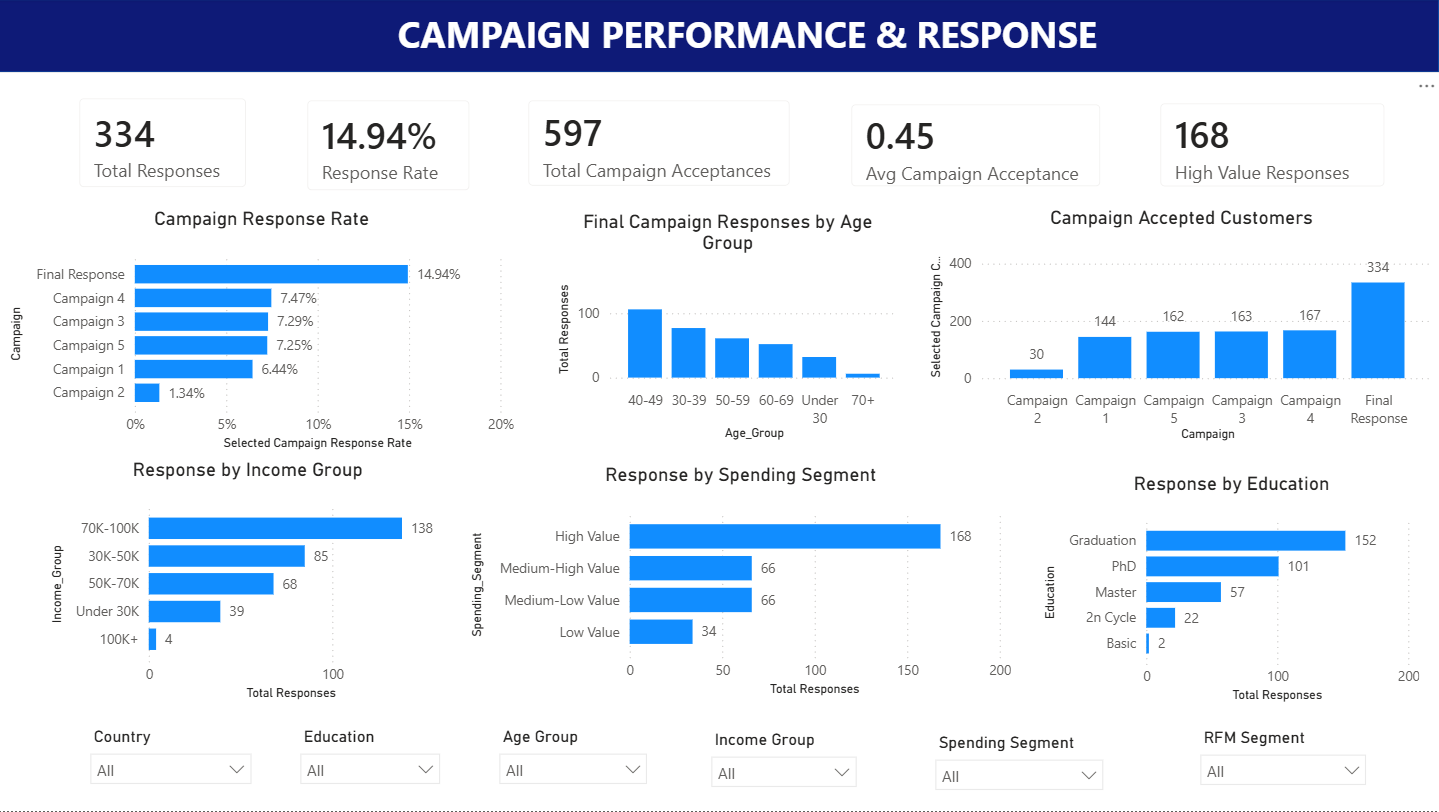

This screenshot's page, from the dashboard's own definition file:
{"tool":"powerbi","page":{"name":"  CAMPAIGN PERFORMANCE & RESPONSE","canvas":[1280,720],"ordinal":2},"visuals":[{"type":"cardVisual","fields":{"Data":["_Measures.Total Responses"]},"box":[56.7,70.9,182.3,113.4],"z":0},{"type":"cardVisual","fields":{"Data":["_Measures.Total Campaign Acceptances"]},"box":[454.7,72.9,266.3,110.2],"z":1000},{"type":"cardVisual","fields":{"Data":["_Measures.Average Campaign Acceptance"]},"box":[741.3,75.9,255.2,107.3],"z":2000},{"type":"cardVisual","fields":{"Data":["_Measures.Response Rate"]},"box":[259.2,72.9,178.2,114.4],"z":3000},{"type":"clusteredColumnChart","title":"Campaign Accepted Customers","fields":{"Category":["Campaigns.Campaign"],"Y":["_Measures.Selected Campaign Customers"]},"box":[823.3,183.3,456.7,212.7],"z":4000},{"type":"slicer","fields":{"Values":["marketing_customer_enriched.RFM_Segment"]},"box":[1057.4,642.1,167.2,66],"z":5000},{"type":"slicer","fields":{"Values":["marketing_customer_enriched.Country"]},"box":[73.8,640.9,162.6,60.7],"z":6000},{"type":"slicer","fields":{"Values":["marketing_customer_enriched.Education"]},"box":[259.7,640.9,143.9,69.1],"z":7000},{"type":"slicer","fields":{"Values":["marketing_customer_enriched.Income_Group"]},"box":[624.1,643.7,148.6,66.3],"z":8000},{"type":"slicer","fields":{"Values":["marketing_customer_enriched.Age_Group"]},"box":[436.3,640.9,151.4,71.9],"z":9000},{"type":"slicer","fields":{"Values":["marketing_customer_enriched.Spending_Segment"]},"box":[823.1,646.5,169.1,57],"z":10000},{"type":"clusteredBarChart","title":"Campaign Response Rate","fields":{"Category":["Campaigns.Campaign"],"Y":["_Measures.Selected Campaign Response Rate"]},"box":[6.8,184.8,457.1,219.8],"z":11000},{"type":"clusteredBarChart","title":"Response by Spending Segment","fields":{"Category":["marketing_customer_enriched.Spending_Segment"],"Y":["_Measures.Total Responses"]},"box":[416.2,411.1,489.1,210.6],"z":11001},{"type":"columnChart","title":"Final Campaign Responses by Age Group","fields":{"Category":["marketing_customer_enriched.Age_Group"],"Y":["_Measures.Total Responses"]},"box":[493.2,187.3,311.9,208.6],"z":11002},{"type":"barChart","title":"Response by Income Group","fields":{"Category":["marketing_customer_enriched.Income_Group"],"Y":["_Measures.Total Responses"]},"box":[43.5,407.1,359.5,218.7],"z":11003},{"type":"barChart","title":"Response by Education","fields":{"Category":["marketing_customer_enriched.Education"],"Y":["_Measures.Total Responses"]},"box":[923.5,419.2,343.3,208.6],"z":11004},{"type":"shape","box":[0,0,1280,65.4],"z":11005},{"type":"textbox","box":[236.4,3.7,850.3,56.6],"z":11006},{"type":"cardVisual","fields":{"Data":["_Measures.High Value Responses"]},"box":[1015.7,74.9,233.9,108.4],"z":11007}]}

Visuals, with their boxes in screenshot pixels (x1, y1, x2, y2), scaled from the page's 1280x720 canvas onto the 1439x812 screenshot:
cardVisual - _Measures.Total Responses: crop(64, 80, 269, 208)
cardVisual - _Measures.Total Campaign Acceptances: crop(511, 82, 811, 206)
cardVisual - _Measures.Average Campaign Acceptance: crop(833, 86, 1120, 207)
cardVisual - _Measures.Response Rate: crop(291, 82, 492, 211)
"Campaign Accepted Customers" clusteredColumnChart: crop(926, 207, 1438, 447)
slicer - marketing_customer_enriched.RFM_Segment: crop(1189, 724, 1377, 799)
slicer - marketing_customer_enriched.Country: crop(83, 723, 266, 791)
slicer - marketing_customer_enriched.Education: crop(292, 723, 454, 801)
slicer - marketing_customer_enriched.Income_Group: crop(702, 726, 869, 801)
slicer - marketing_customer_enriched.Age_Group: crop(490, 723, 661, 804)
slicer - marketing_customer_enriched.Spending_Segment: crop(925, 729, 1115, 793)
"Campaign Response Rate" clusteredBarChart: crop(8, 208, 522, 456)
"Response by Spending Segment" clusteredBarChart: crop(468, 464, 1018, 701)
"Final Campaign Responses by Age Group" columnChart: crop(554, 211, 905, 446)
"Response by Income Group" barChart: crop(49, 459, 453, 706)
"Response by Education" barChart: crop(1038, 473, 1424, 708)
shape: crop(0, 0, 1438, 74)
textbox: crop(266, 4, 1222, 68)
cardVisual - _Measures.High Value Responses: crop(1142, 84, 1405, 207)
